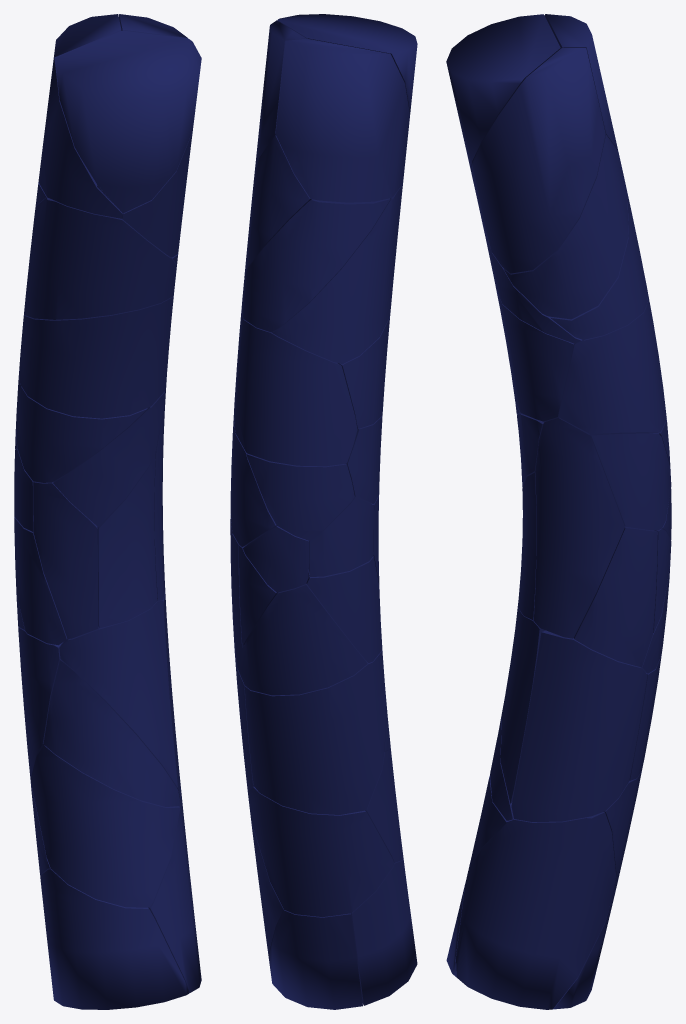
The model's file is VolumeShredded4.fbx.
3 renders of one model, left to right at view 1: azimuth 30°, elevation 25°; view 2: azimuth 150°, elevation 25°; view 3: azimuth 270°, elevation 25°, orthographic.
Visible parts, largest first — view 1: Volume4_cell.006, Volume4_cell.025, Volume4_cell.026, Volume4_cell.010, Volume4_cell.024, Volume4_cell.023, Volume4_cell.003, Volume4_cell.012, Volume4_cell.019, Volume4_cell.020, Volume4_cell.002, Volume4_cell.015 (+8 smaller); view 2: Volume4_cell.020, Volume4_cell.001, Volume4_cell.027, Volume4_cell, Volume4_cell.005, Volume4_cell.010, Volume4_cell.021, Volume4_cell.009, Volume4_cell.024, Volume4_cell.028, Volume4_cell.014, Volume4_cell.006 (+12 smaller); view 3: Volume4_cell.013, Volume4_cell.016, Volume4_cell.018, Volume4_cell.029, Volume4_cell.027, Volume4_cell.030, Volume4_cell.006, Volume4_cell.008, Volume4_cell.022, Volume4_cell.026, Volume4_cell.023, Volume4_cell.005 (+11 smaller).
Boxes of the visible parts, left/top/right/bottom form: Volume4_cell.006: left=55, top=30, right=201, bottom=213; Volume4_cell.025: left=31, top=745, right=179, bottom=907; Volume4_cell.026: left=19, top=294, right=173, bottom=418; Volume4_cell.010: left=24, top=197, right=176, bottom=319; Volume4_cell.024: left=40, top=869, right=189, bottom=1009; Volume4_cell.023: left=59, top=600, right=177, bottom=787; Volume4_cell.003: left=43, top=660, right=179, bottom=806; Volume4_cell.012: left=33, top=481, right=98, bottom=638; Volume4_cell.019: left=97, top=452, right=157, bottom=628; Volume4_cell.020: left=38, top=14, right=122, bottom=218; Volume4_cell.002: left=16, top=386, right=147, bottom=482; Volume4_cell.015: left=53, top=391, right=164, bottom=526; Volume4_cell.020: left=275, top=38, right=409, bottom=202; Volume4_cell.001: left=244, top=650, right=385, bottom=814; Volume4_cell.027: left=234, top=311, right=357, bottom=466; Volume4_cell: left=248, top=786, right=394, bottom=916; Volume4_cell.005: left=241, top=198, right=390, bottom=332; Volume4_cell.010: left=271, top=184, right=402, bottom=364; Volume4_cell.021: left=238, top=583, right=367, bottom=695; Volume4_cell.009: left=268, top=910, right=362, bottom=1009; Volume4_cell.024: left=350, top=859, right=417, bottom=1005; Volume4_cell.028: left=246, top=453, right=354, bottom=540; Volume4_cell.014: left=306, top=556, right=382, bottom=663; Volume4_cell.006: left=277, top=14, right=417, bottom=114; Volume4_cell.013: left=456, top=812, right=615, bottom=1009; Volume4_cell.016: left=471, top=48, right=605, bottom=273; Volume4_cell.018: left=511, top=630, right=647, bottom=821; Volume4_cell.029: left=533, top=418, right=624, bottom=638; Volume4_cell.027: left=558, top=302, right=666, bottom=435; Volume4_cell.030: left=503, top=135, right=628, bottom=319; Volume4_cell.006: left=446, top=14, right=560, bottom=171; Volume4_cell.008: left=574, top=526, right=657, bottom=667; Volume4_cell.022: left=590, top=433, right=671, bottom=530; Volume4_cell.026: left=496, top=291, right=575, bottom=421; Volume4_cell.023: left=500, top=607, right=545, bottom=803; Volume4_cell.005: left=550, top=193, right=647, bottom=339.
Bounding box in the file's own units: 32.2 × 228 × 48.78.
